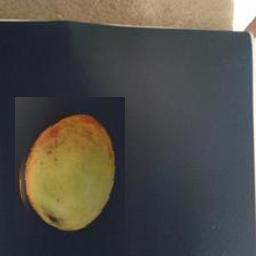Mango Semifresh: (15, 97, 125, 235)
